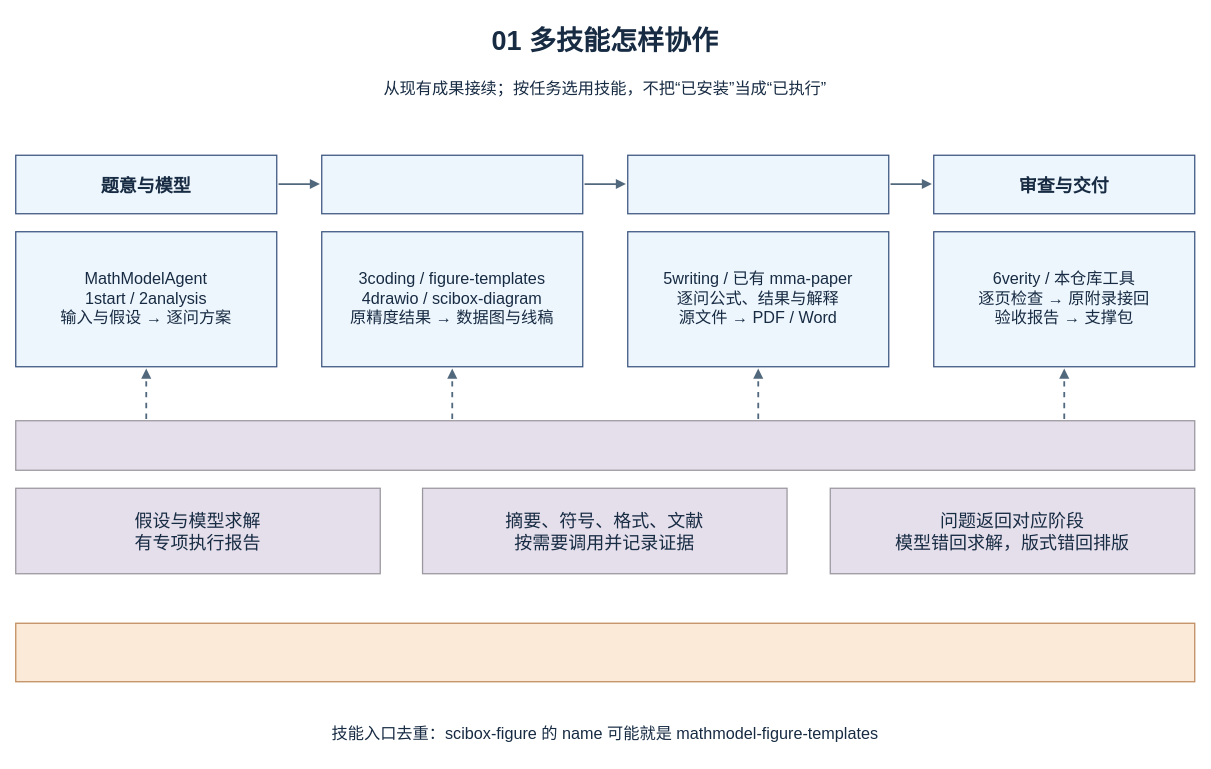
Image size: 1211x769. Some labels were removed from this diagram. Each missing label, with the centre of its shape:
"BZD 专项审查" belongs at pixel 605 445.
"工具选择不是结果证明：Origin 为可选路线；该项目指定曲线最终由 Python 生成并核验" belongs at pixel 605 652.
"求解与图形" belongs at pixel 452 184.
"论文与编译" belongs at pixel 758 184.
